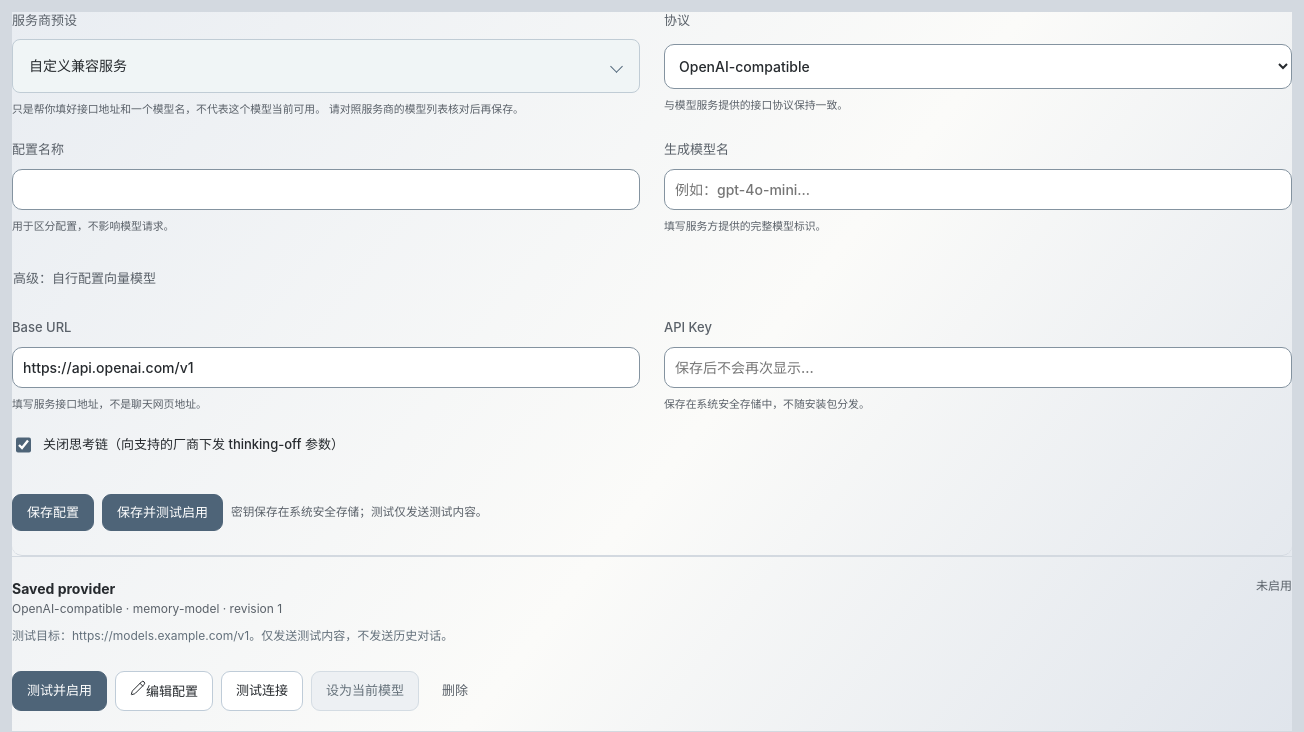
Test case: ModelSettings › preserves edited inputs and replacement key on failure then saves the same identity
(page scrolled)
Click the button "编辑配置" at {"x": 164, "y": 691}, box [115, 671, 213, 711]
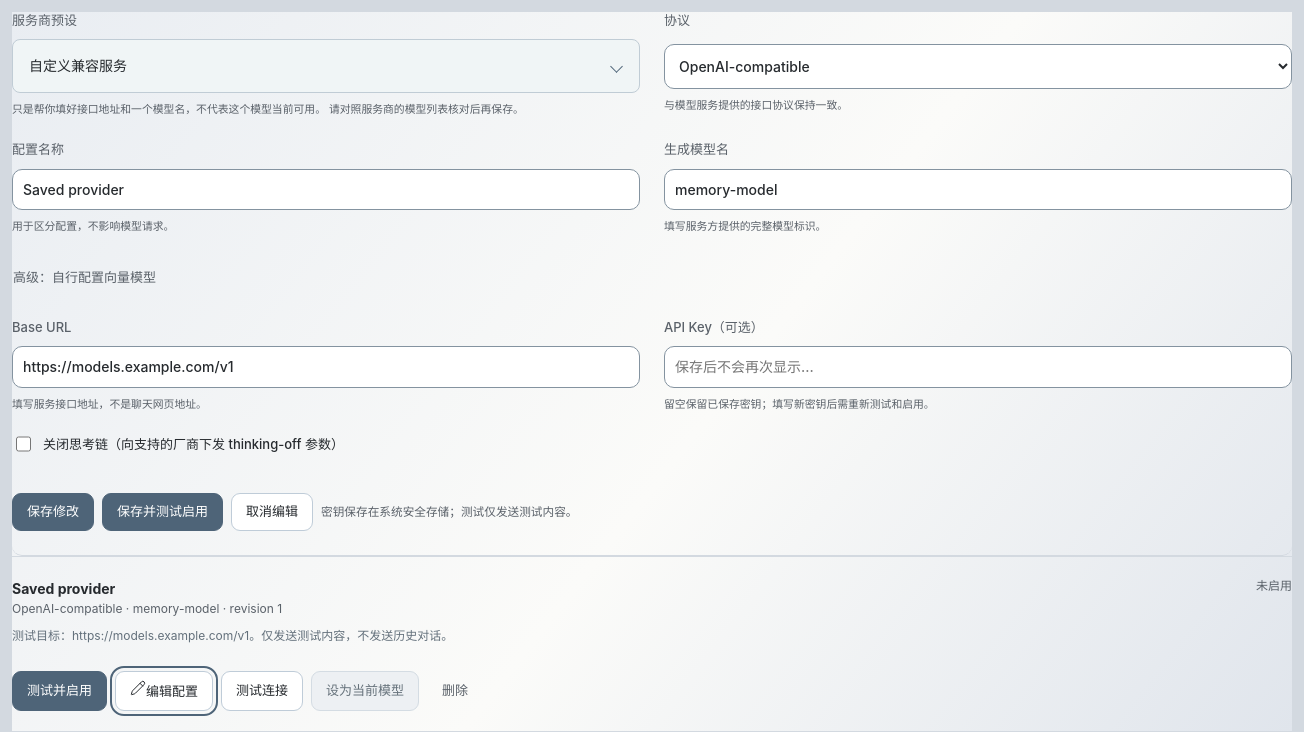
Replace the text in the field labelled "生成模型名" with "changed" at {"x": 978, "y": 189}, box [664, 168, 1292, 210]
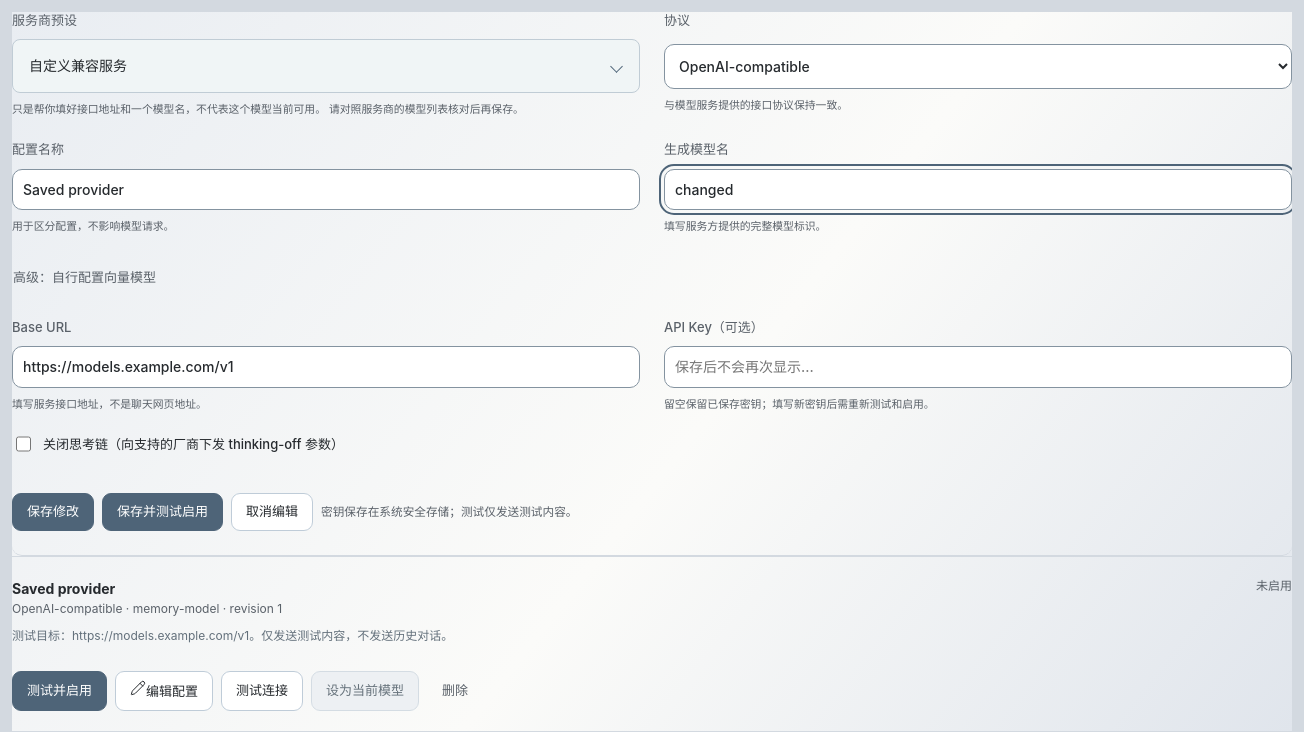
Type "synthetic-replacement" into the password field labelled "API Key（可选） 留空保留已保存密钥；填写新密钥后需重新测试和启用。" at {"x": 978, "y": 367}, box [664, 346, 1292, 388]
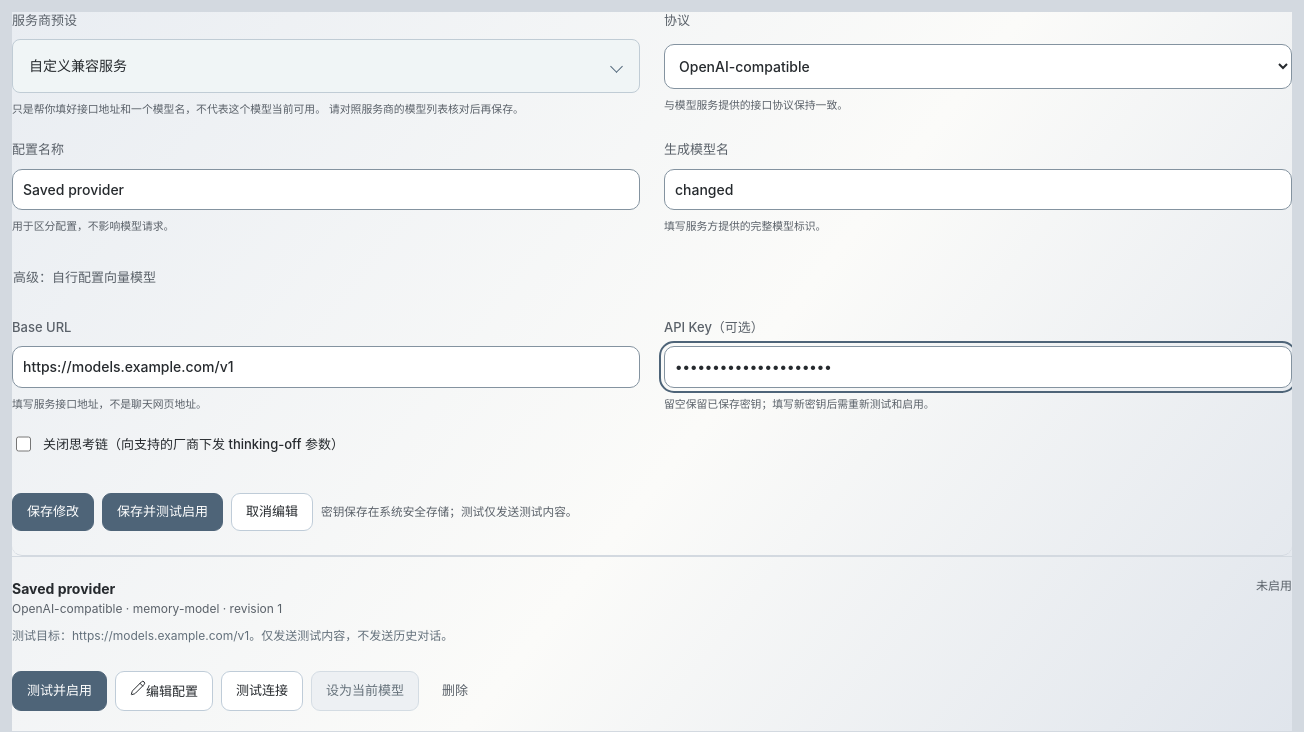
Click the button "保存修改" at {"x": 53, "y": 512}, box [12, 493, 94, 531]
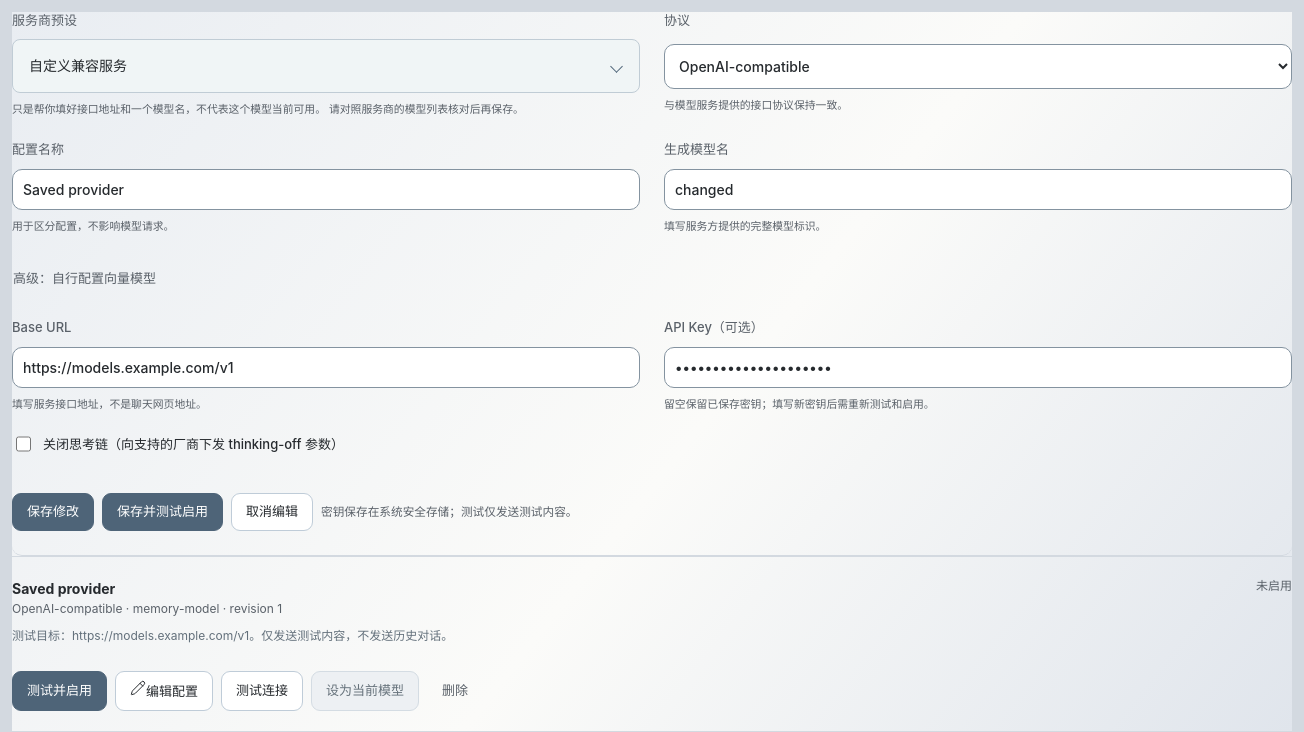
Click the button "保存修改" at {"x": 53, "y": 512}, box [12, 494, 94, 531]
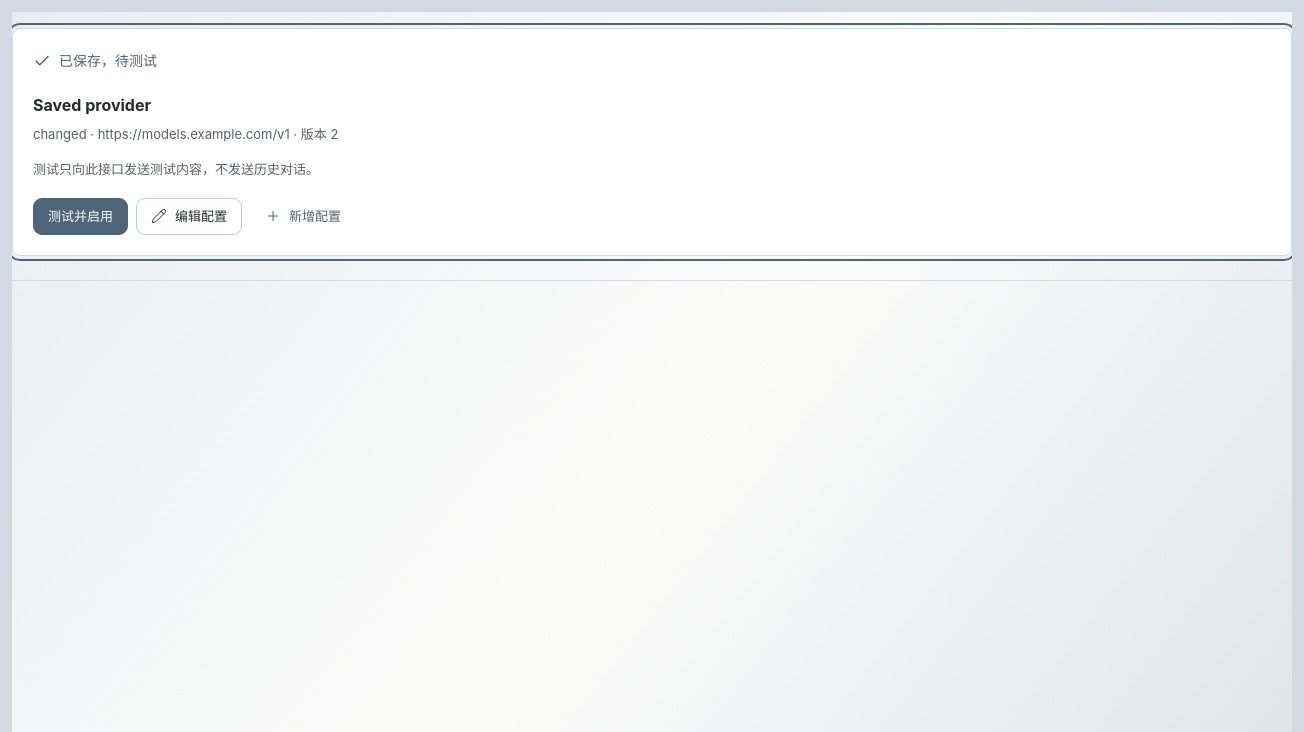
Expected: the element named "已保存的模型配置" shows "版本 2", [12, 28, 1292, 256]
Expected: the label labelled "API Key" is gone
